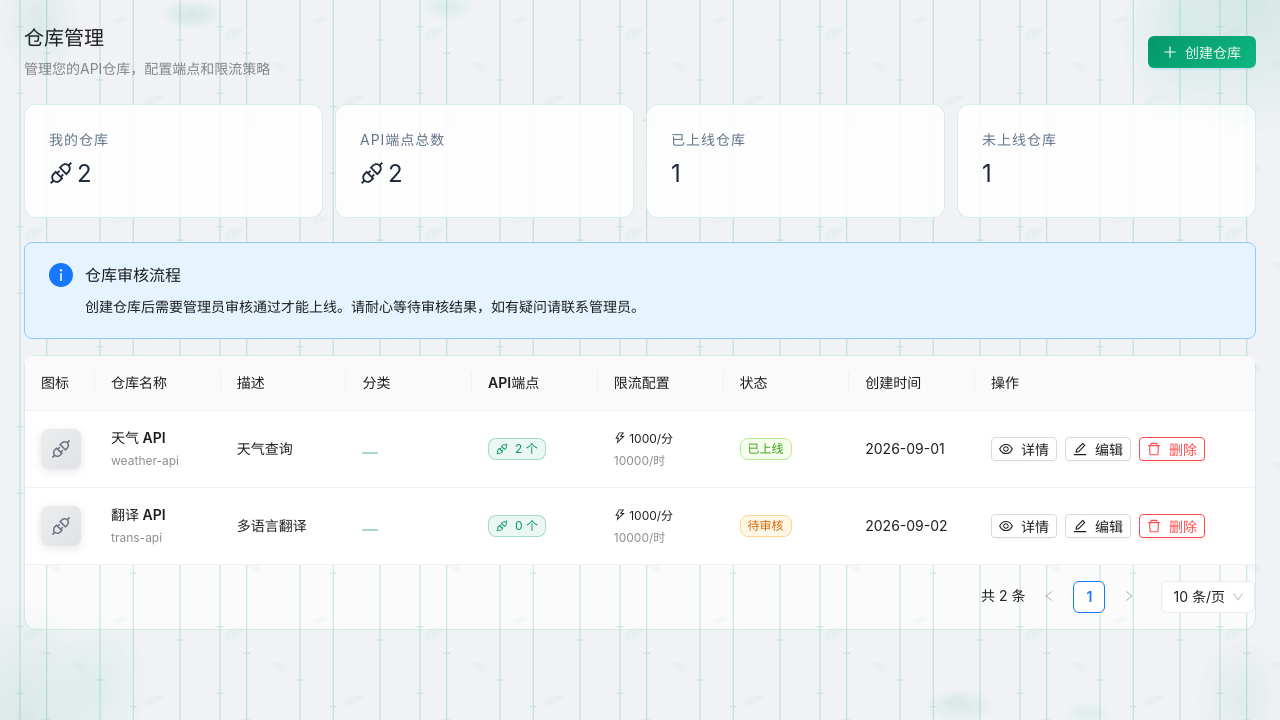
Test case: 仓库操作 › TC-FE-OREPO-003: 编辑时并行加载端点与限流配置
The image size is (1280, 720).
Expected: the text "天气 API" is shown, [111,429,166,446]
Click the button "编辑" in the row of "天气 API" at (1098, 449), box [1065,437,1131,461]
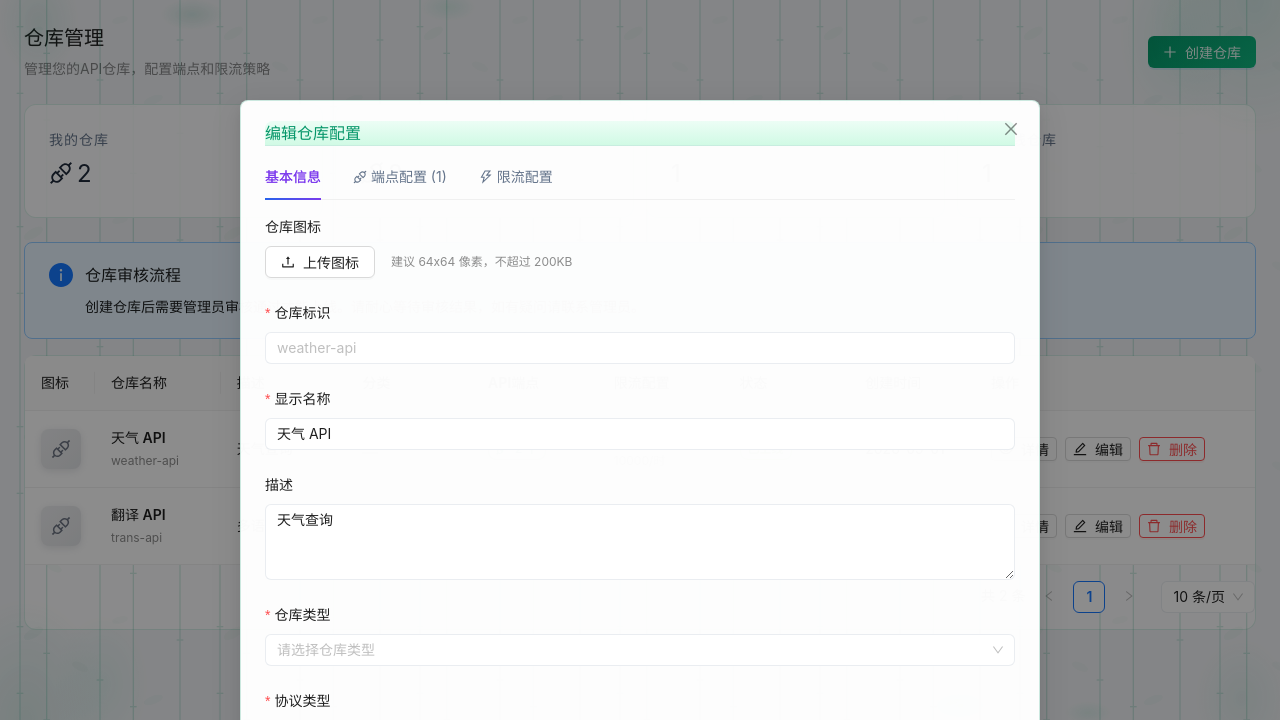
Expected: the text "编辑仓库配置" is shown, [265,123,361,143]
